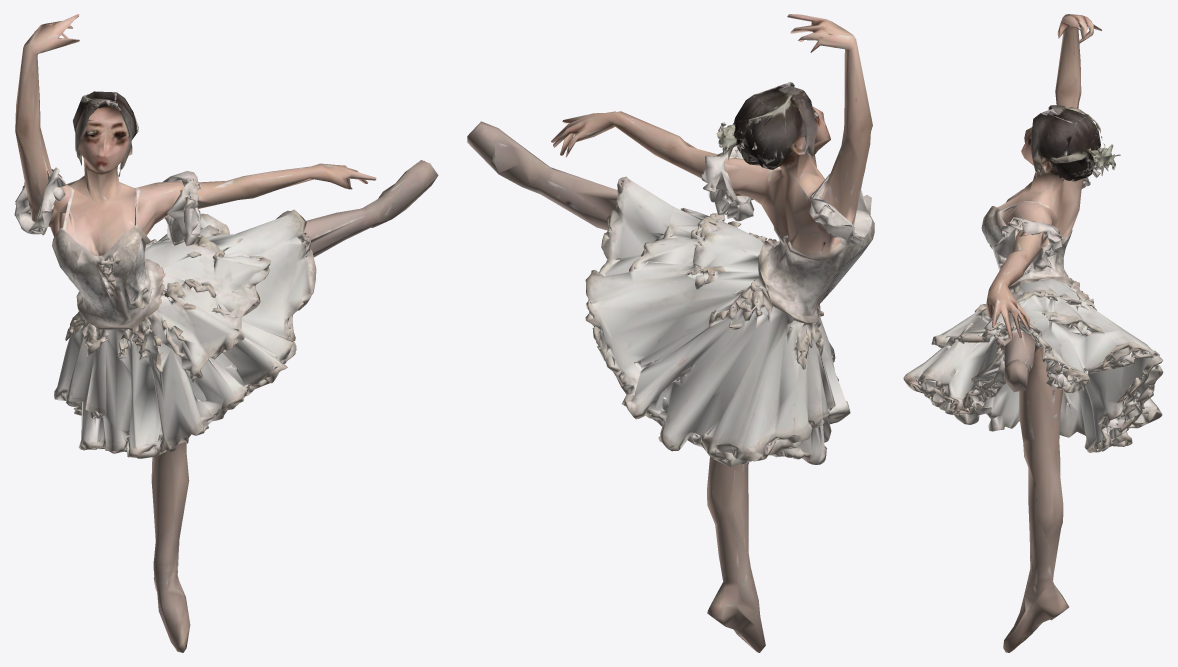
The model's file is ballerina-detailed.glb.
3 views of the same model, side by side, from view 1: azimuth 30°, elevation 25°; view 2: azimuth 150°, elevation 25°; view 3: azimuth 270°, elevation 25° (orthographic). The views are drawn at different scales.
Parts seen in each view (by area): view 1: geometry_0; view 2: geometry_0; view 3: geometry_0.
Boxes of the visible parts, x1,y1,x2,y2 form: geometry_0: (14,14,438,652); geometry_0: (467,14,874,652); geometry_0: (903,14,1163,652).
Size of the model in its own units: 0.6565 by 0.9974 by 0.3949.
Materials: 1 (1 with a texture image).
